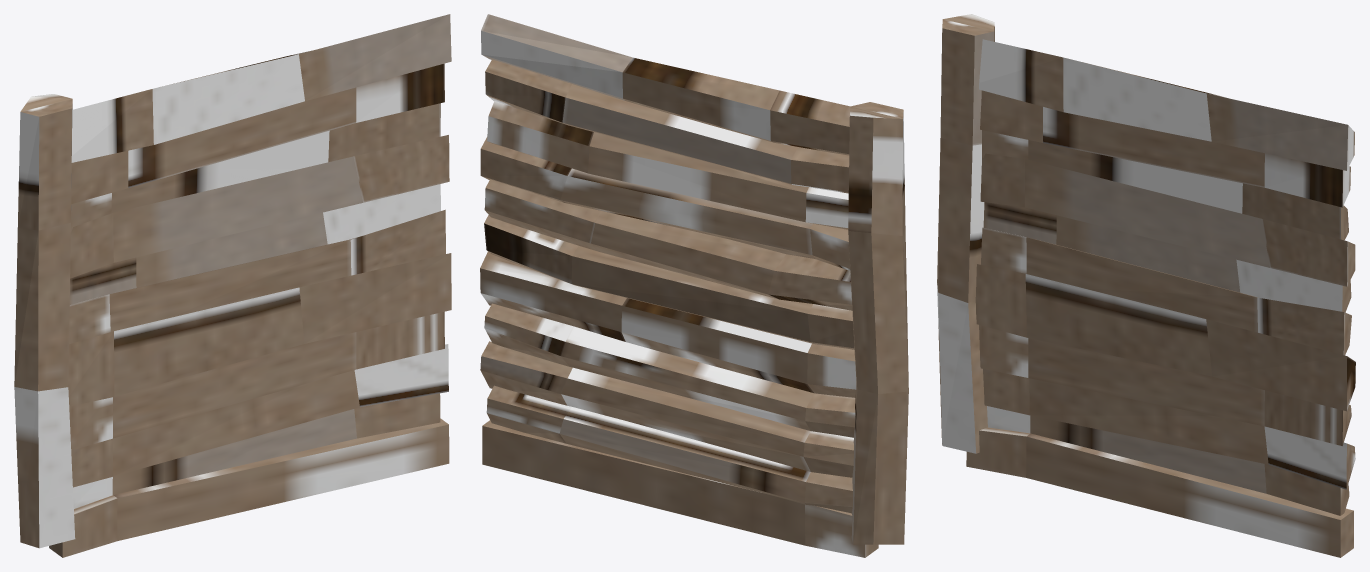
Rendered from brickWall.obj.
3 renders of one model, left to right at view 1: azimuth 30°, elevation 25°; view 2: azimuth 150°, elevation 25°; view 3: azimuth 330°, elevation 25°, orthographic. The views are drawn at different scales.
Parts seen in each view (by area): view 1: brickWall; view 2: brickWall; view 3: brickWall.
Part boxes in pixels (x1,y1,x2,y2): brickWall: [14, 14, 451, 557]; brickWall: [480, 14, 908, 557]; brickWall: [937, 14, 1355, 557].
Size of the model in its own units: 1 by 1 by 0.1.
1 material, 1 textured.
